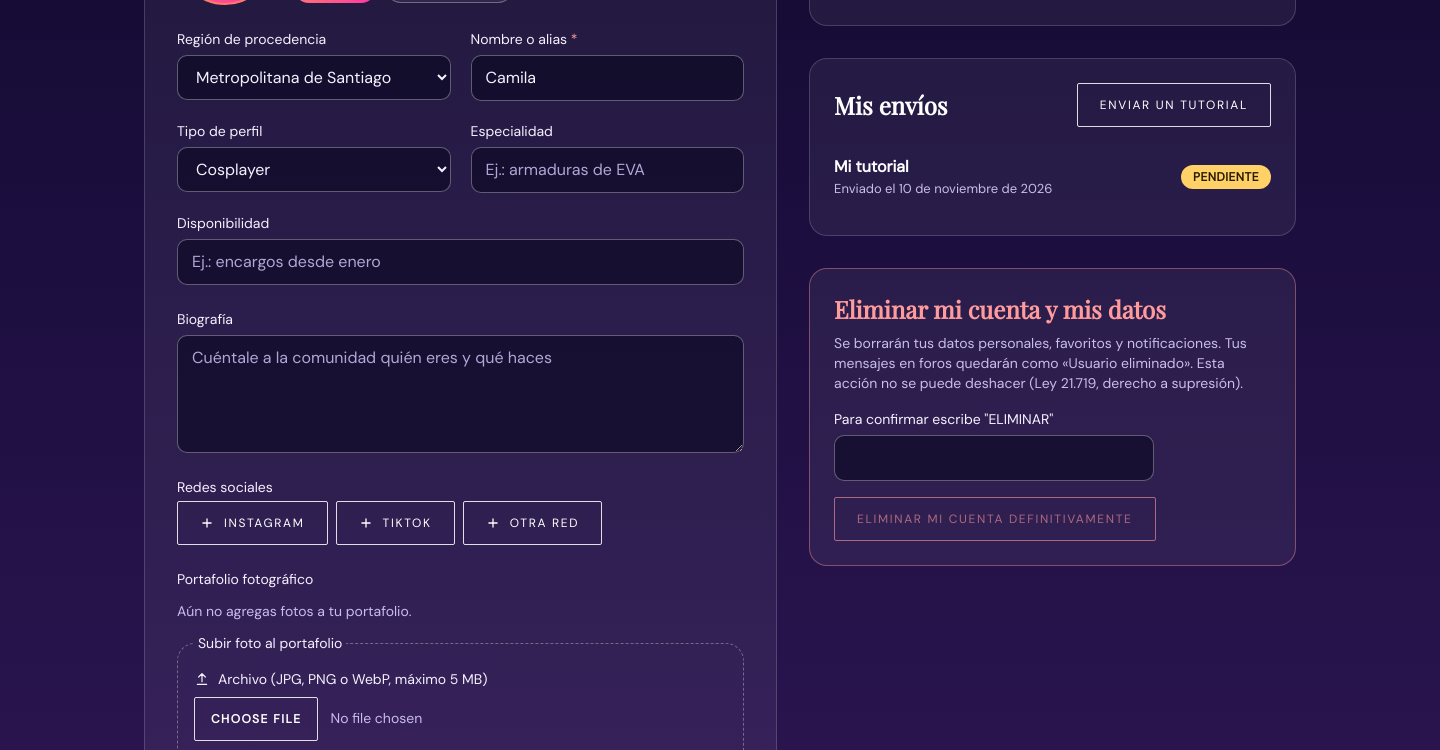
Perfil (UC4) › guarda los cambios del perfil
(page scrolled)
Type "Hago cosplay desde 2020." into the text box labelled "Biografía" at (460, 394), box [177,335,744,453]
(page scrolled)
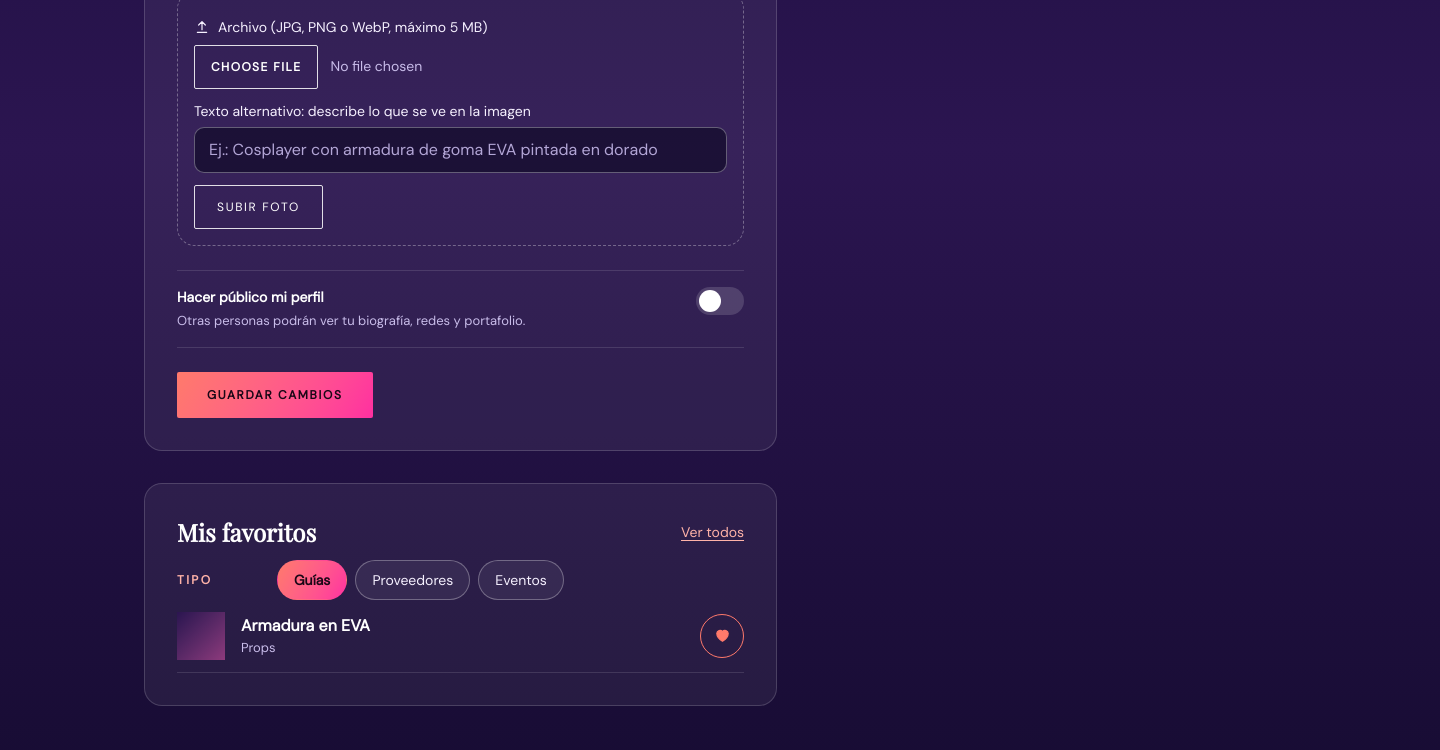
Click the button "Guardar cambios" at (275, 395), box [177,372,373,418]
(page scrolled)
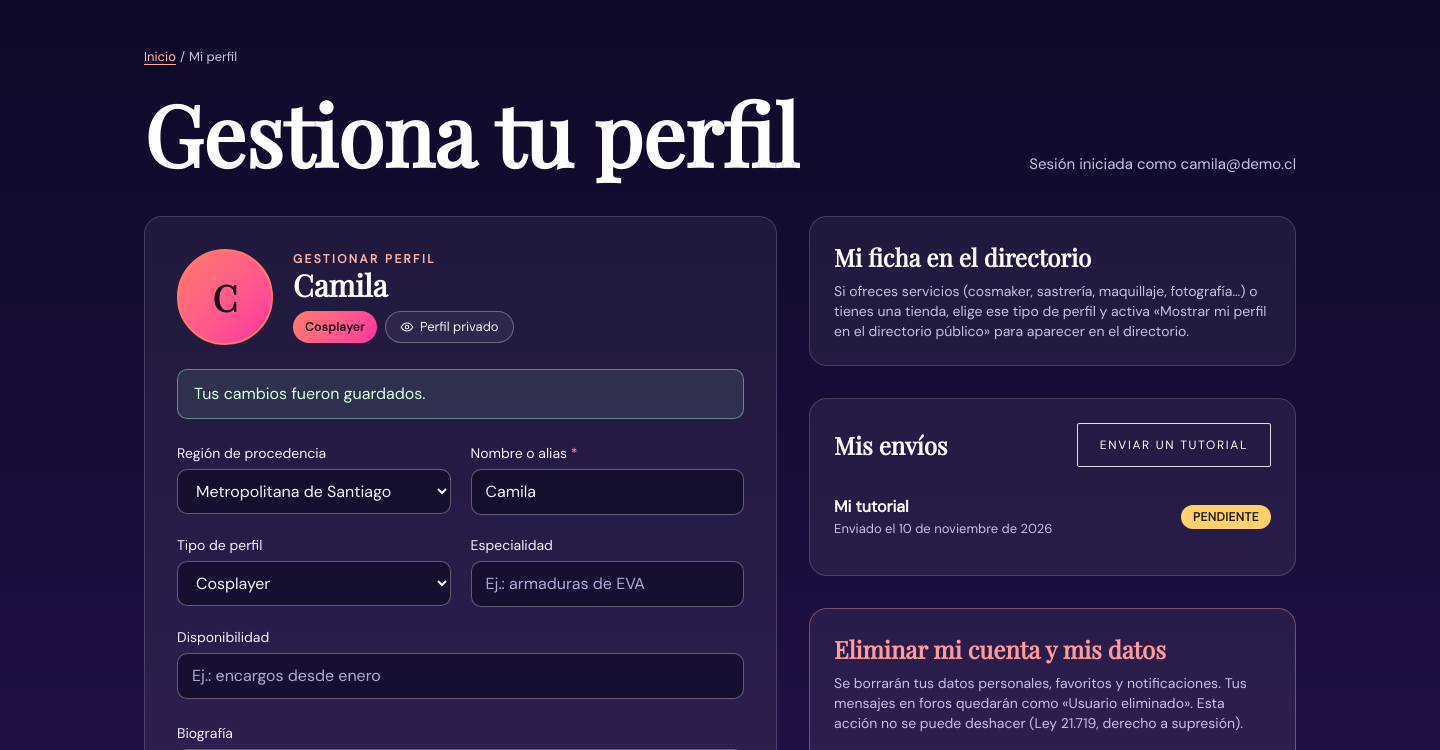
Now the text "Tus cambios fueron guardados." is shown, box [177,369,744,419]
